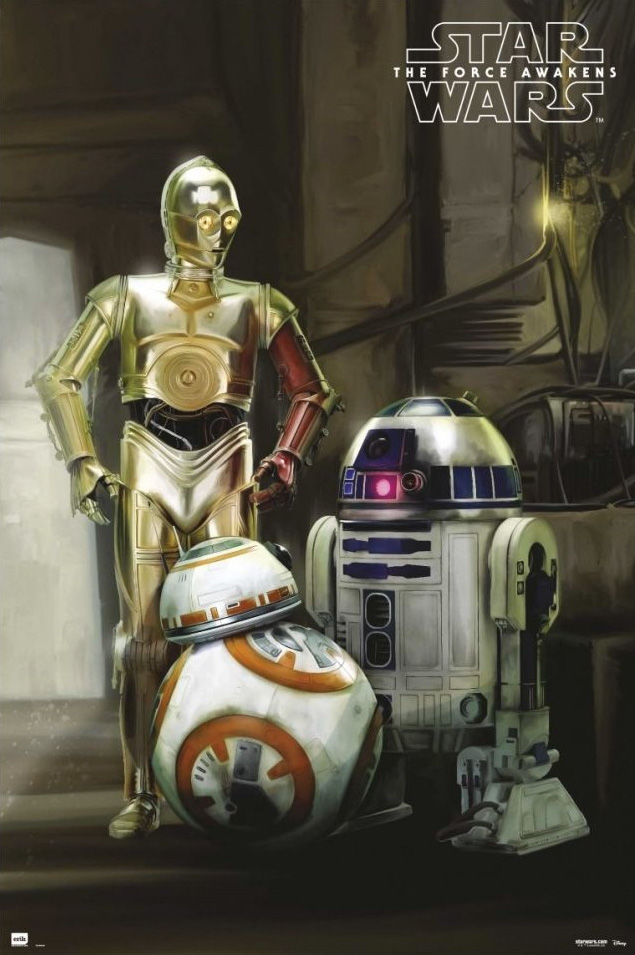bb8: (146, 535, 384, 849)
